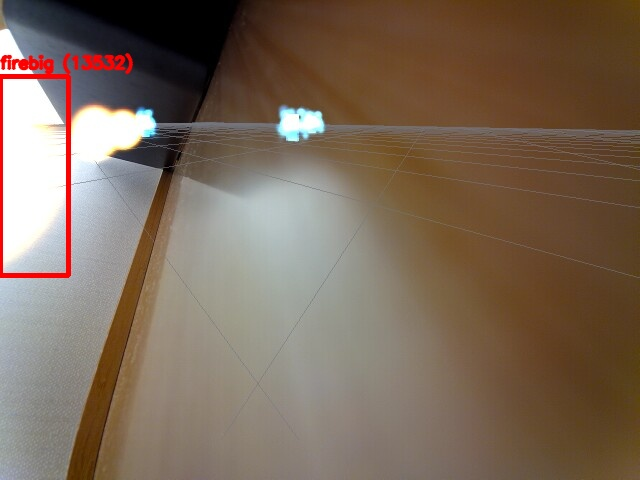firebig: (0, 76, 68, 275)
